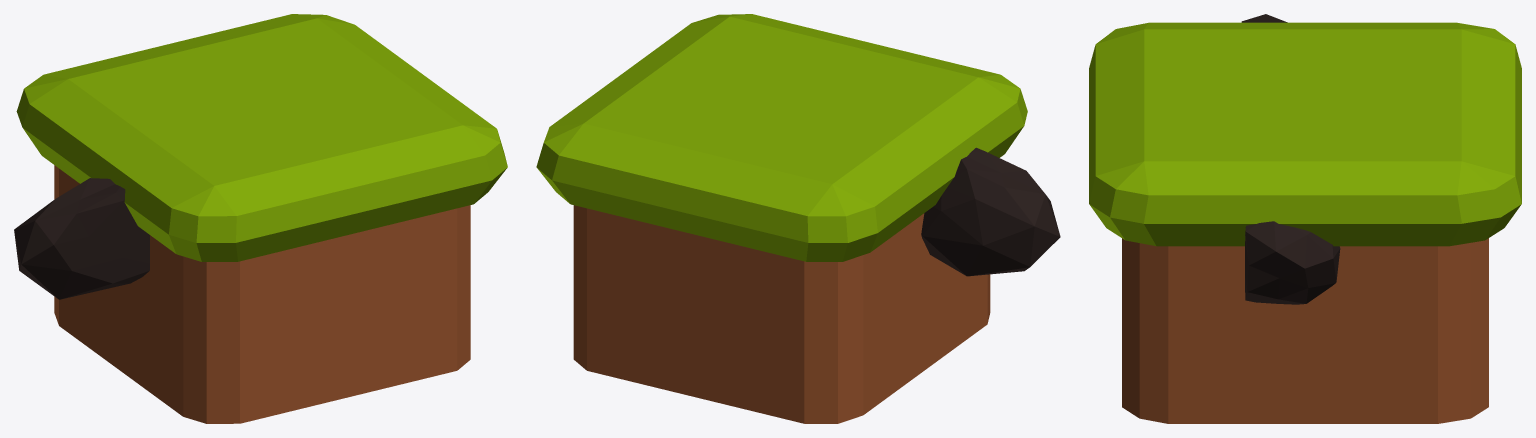
File: Rocks.dae
3 renders of one model, left to right at view 1: azimuth 30°, elevation 25°; view 2: azimuth 150°, elevation 25°; view 3: azimuth 270°, elevation 25°, orthographic. The views are drawn at different scales.
Parts seen in each view (by area): view 1: Cube, Icosphere_001; view 2: Cube, Icosphere_001; view 3: Cube, Icosphere.
Boxes of the visible parts, box(x1,y1,x2,y2) form: Cube: box(16, 14, 507, 423); Icosphere_001: box(14, 178, 149, 299); Cube: box(536, 14, 1027, 423); Icosphere_001: box(921, 147, 1060, 276); Cube: box(1089, 22, 1521, 423); Icosphere: box(1245, 221, 1340, 304).
Bounding box in the file's own units: 8.2 × 6.36 × 4.13.
